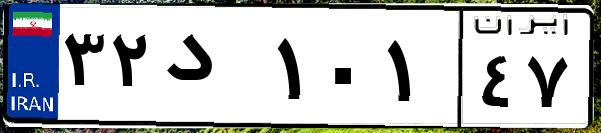0: (330, 28, 385, 110)
1: (270, 28, 330, 110), (385, 28, 445, 110)
2: (110, 28, 158, 98)
3: (57, 26, 110, 100)
4: (475, 38, 525, 113)
7: (525, 38, 570, 115)
د: (158, 20, 270, 120)
